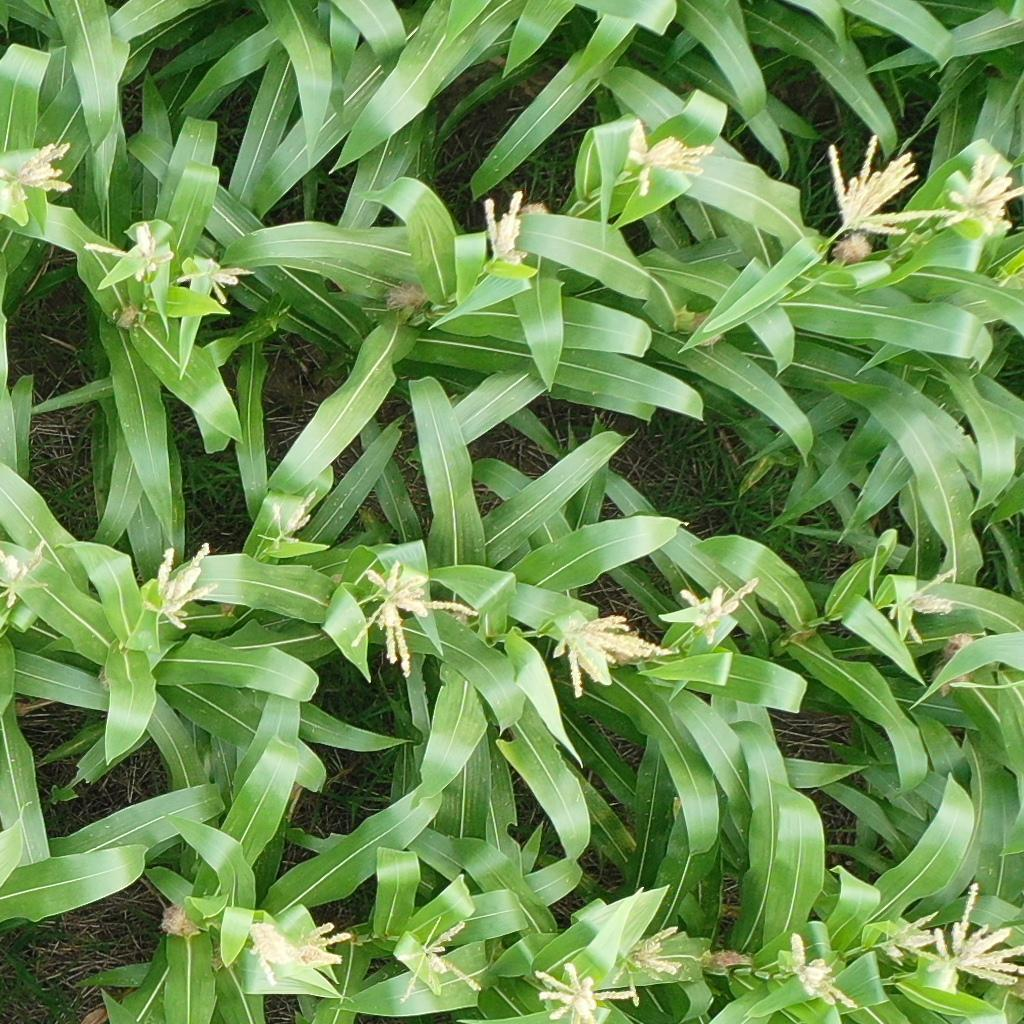Tassel: (352, 560, 481, 677), (825, 133, 957, 237), (549, 606, 672, 701), (928, 881, 1024, 989), (394, 918, 481, 1008), (942, 150, 1024, 236), (621, 122, 715, 196), (142, 542, 219, 631), (530, 962, 635, 1023), (781, 934, 864, 1011), (679, 572, 763, 648), (613, 925, 684, 1012), (886, 567, 957, 647), (84, 223, 173, 285), (1, 142, 73, 203), (177, 256, 256, 305), (481, 190, 530, 268), (1, 535, 51, 610), (876, 911, 941, 967), (260, 489, 318, 551), (244, 922, 303, 982), (285, 922, 350, 976), (996, 264, 1024, 289)
